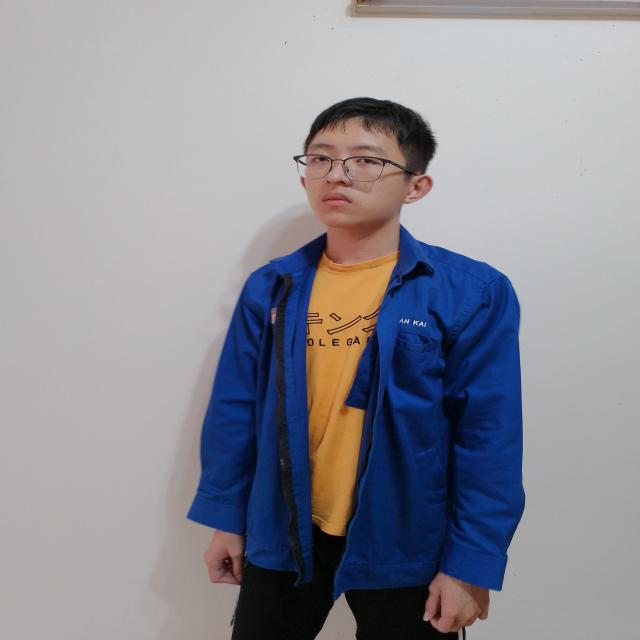person_with_labcoat: (188, 98, 524, 640)
